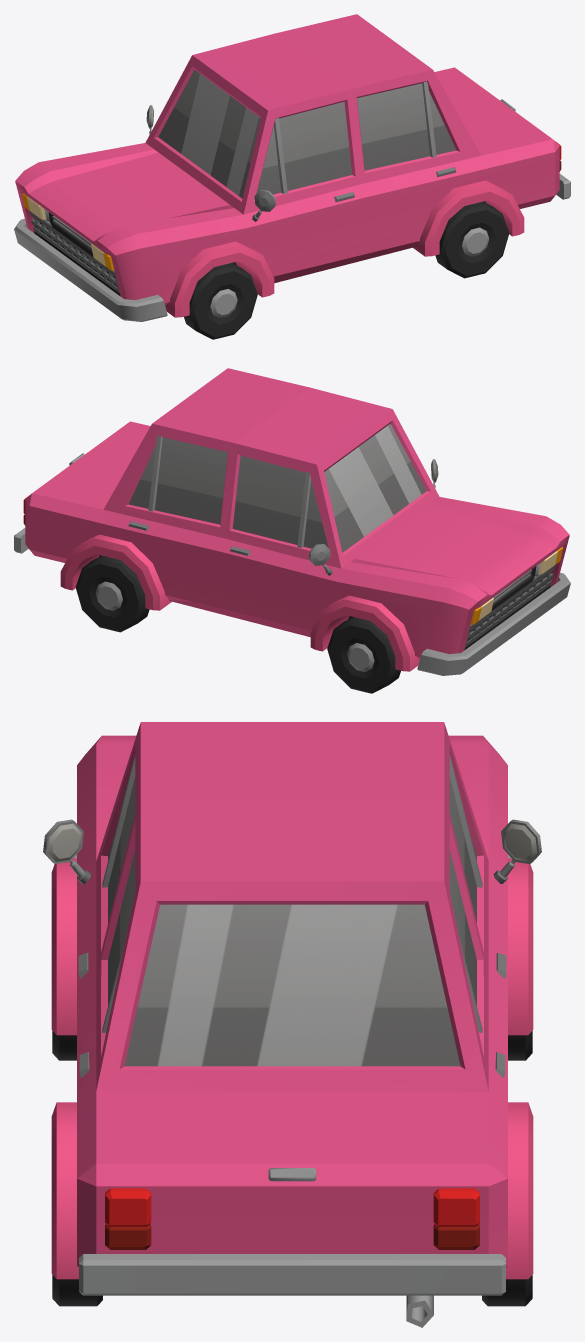
Rendered from Car_5_N.gltf.
The picture shows the model from 3 angles, top to bottom: view 1: azimuth 30°, elevation 25°; view 2: azimuth 150°, elevation 25°; view 3: azimuth 270°, elevation 25°; orthographic projection. The views are drawn at different scales.
Parts seen in each view (by area): view 1: Car_5_N, RR, FL; view 2: Car_5_N, RL, FR; view 3: Car_5_N, RR, RL.
Part boxes in pixels (x1=…): Car_5_N: x1=14, y1=14, x2=570, y2=321; RR: x1=435, y1=201, x2=509, y2=278; FL: x1=184, y1=263, x2=257, y2=339; Car_5_N: x1=14, y1=368, x2=570, y2=675; RL: x1=75, y1=555, x2=149, y2=632; FR: x1=327, y1=617, x2=400, y2=693; Car_5_N: x1=43, y1=722, x2=541, y2=1327; RR: x1=52, y1=1275, x2=102, y2=1306; RL: x1=482, y1=1275, x2=532, y2=1306.
Size of the model in its own units: 3.55 by 1.45 by 1.67.
Materials: 4 (4 with a texture image).
